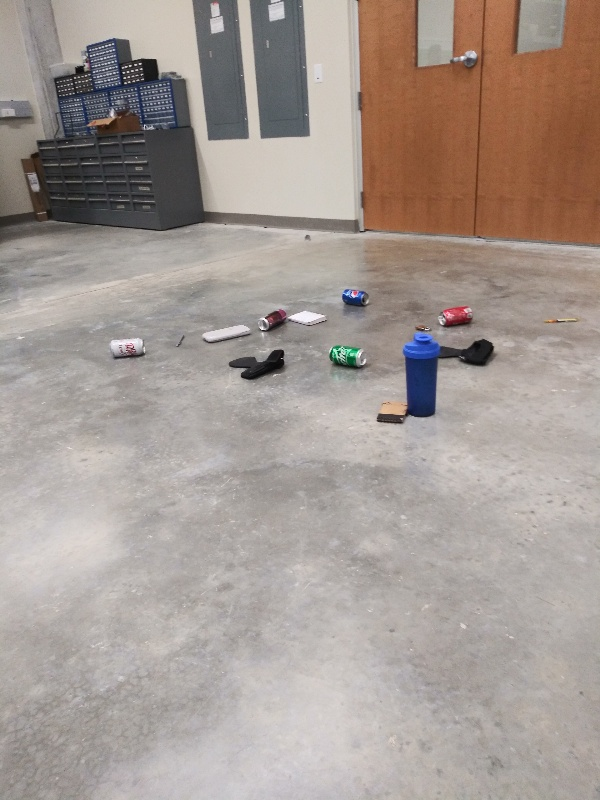can: (106, 335, 150, 361), (436, 303, 477, 330), (325, 343, 368, 368), (340, 284, 373, 307), (256, 308, 288, 331)
